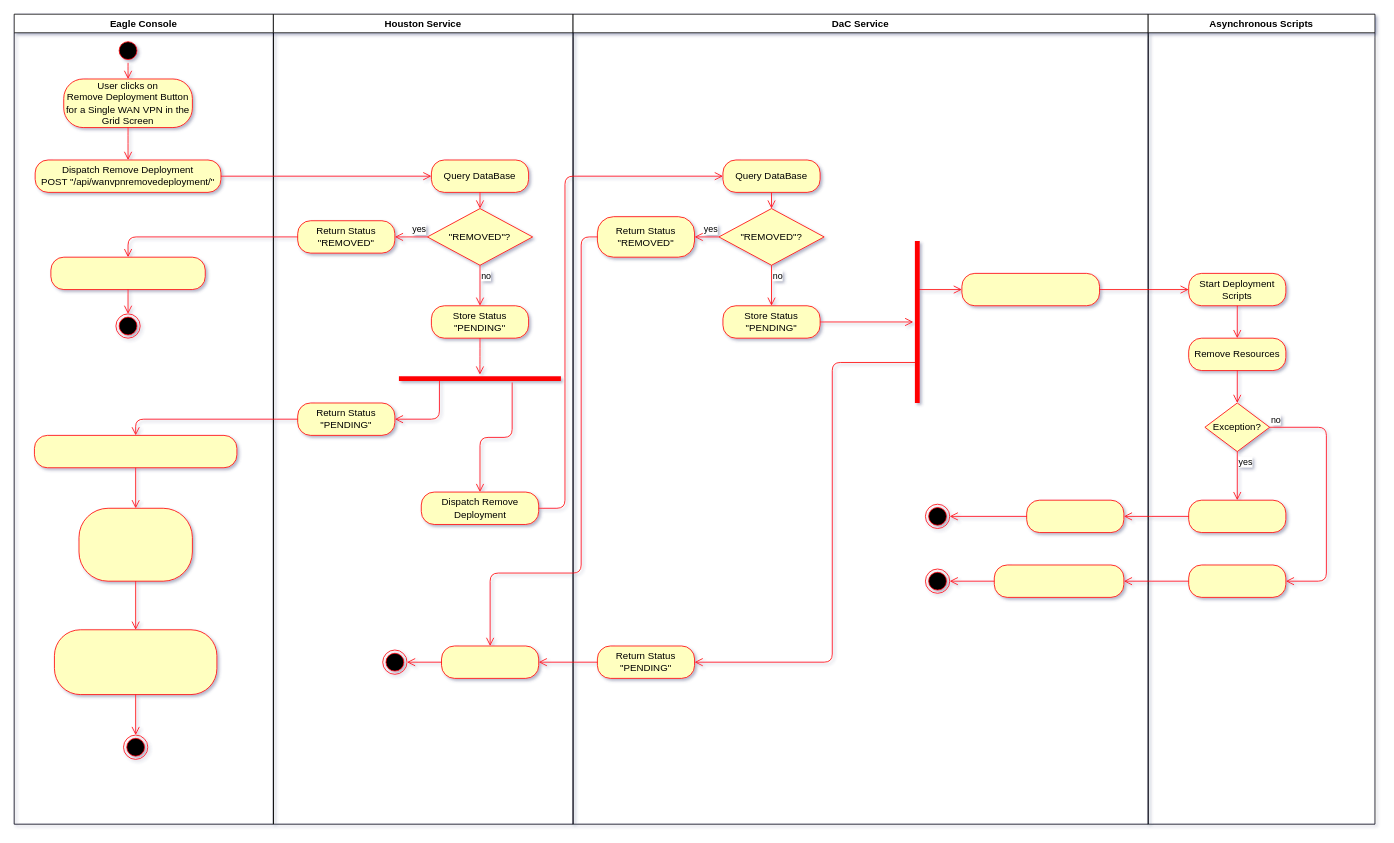
The diagram is 1394 pixels wide and 843 high, and some of its shapes have lost their labels. The centre of each missing label's shape, as x and y in pixels:
Queue Revoke Deployment Asynchronous Task: point 1030,289
Return Result: point 1237,580
Show Alert "Connection Deployment is Being Removed": point 135,451
Show Alert "Solution Deployment Removed": point 127,273
Start "Removing" Progress Spinner for a single tile in the Grid Screen: point 135,544
Start Background Asynchronous "CheckWanVpnDeployments" Action: point 135,662
Store Received Data: point 490,661
Store Status "FAILURE": point 1075,516
Store Status "REMOVED": point 1058,580
Throw Exception: point 1237,516
